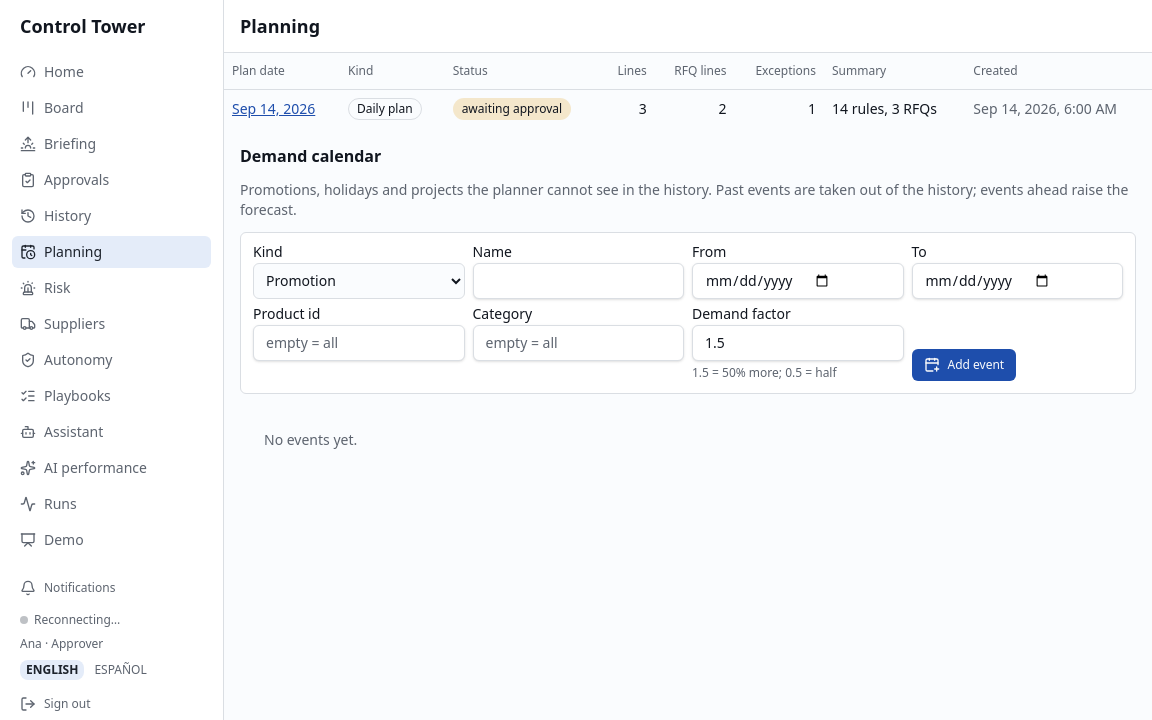
Test: planning review › keeps the demand calendar: an approver adds a promotion and removes it
Expected: the text "No events yet." is shown, [264,430,357,448]
Type "Feria" into the field labelled "Name" at (578, 280), box [472,262,684,298]
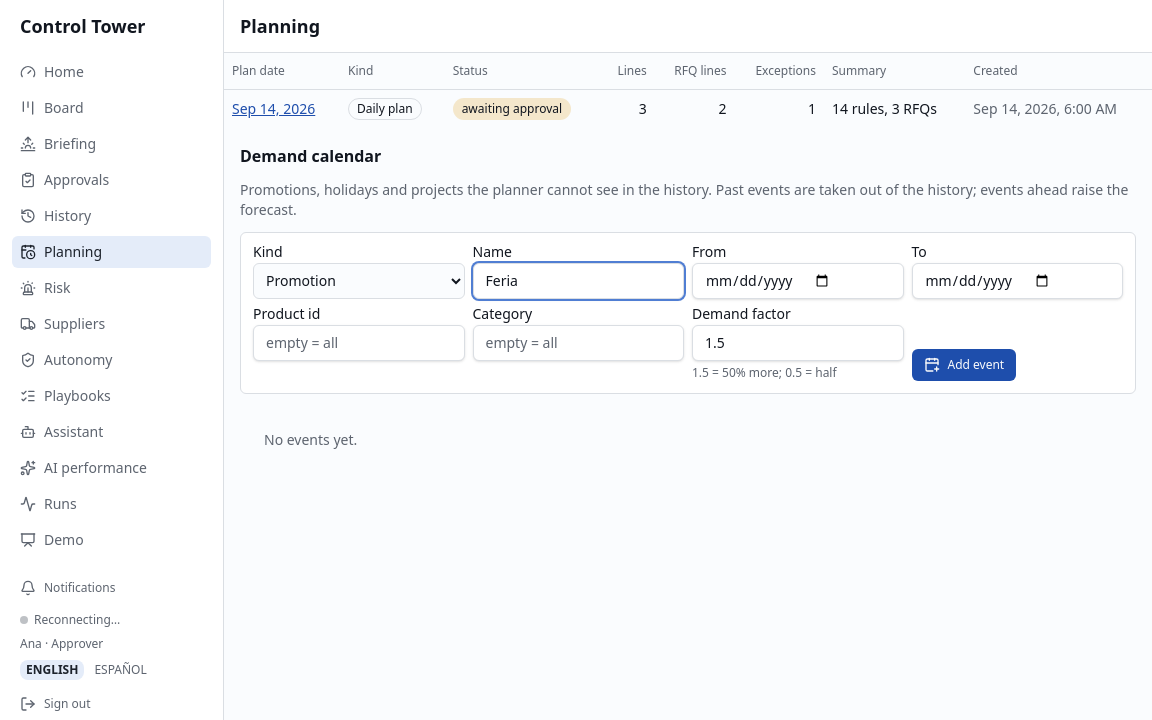
Type "2026-10-01" into the date field labelled "From" at (798, 280), box [692,262,904,298]
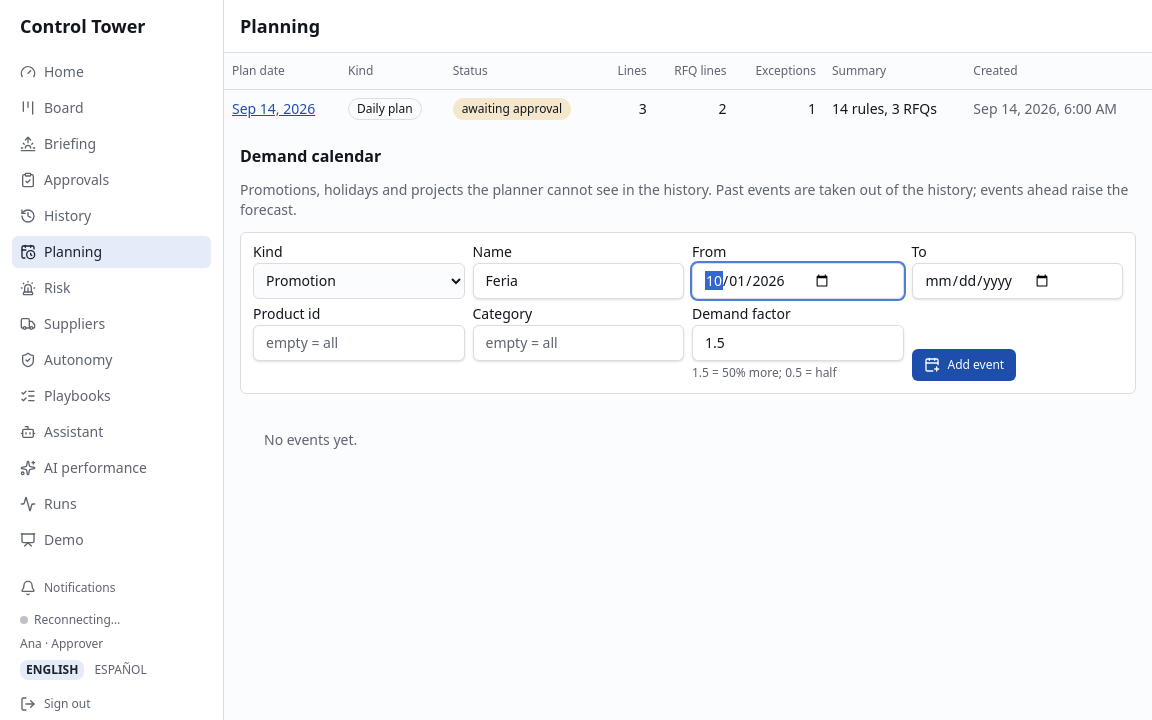
Type "2026-10-07" into the date field labelled "To" at (1017, 280), box [912,262,1123,298]
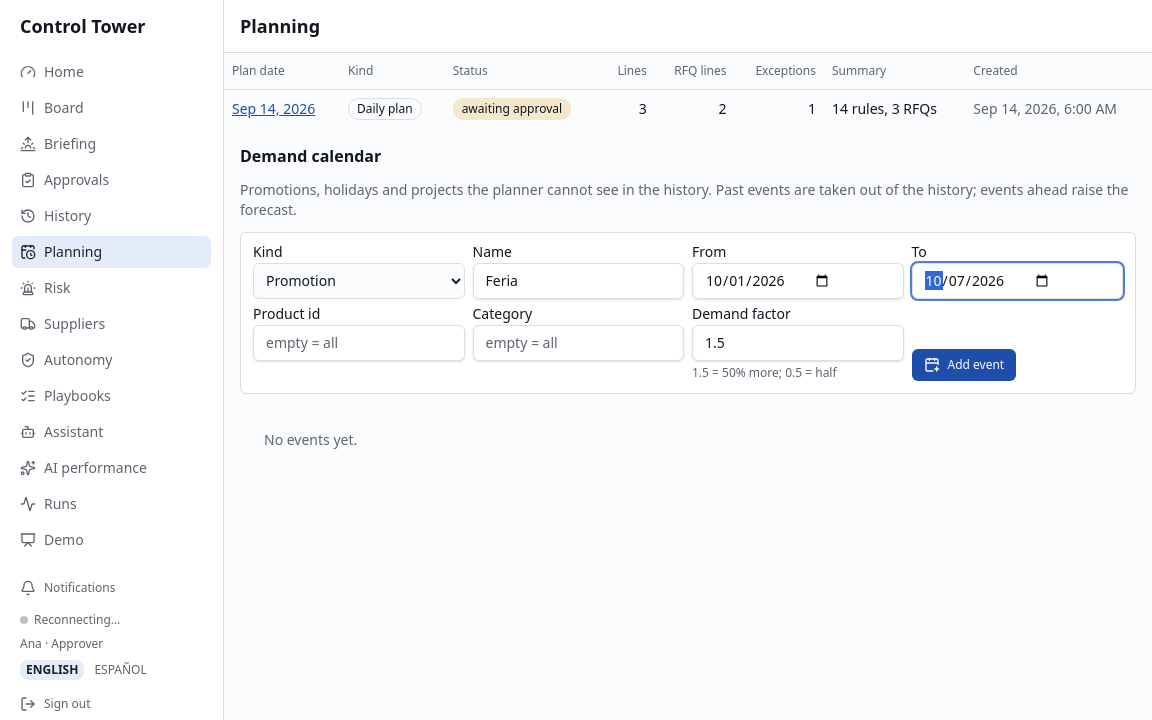
Replace the text in the number field labelled "Demand factor" with "2" at (798, 342), box [692,324,904,360]
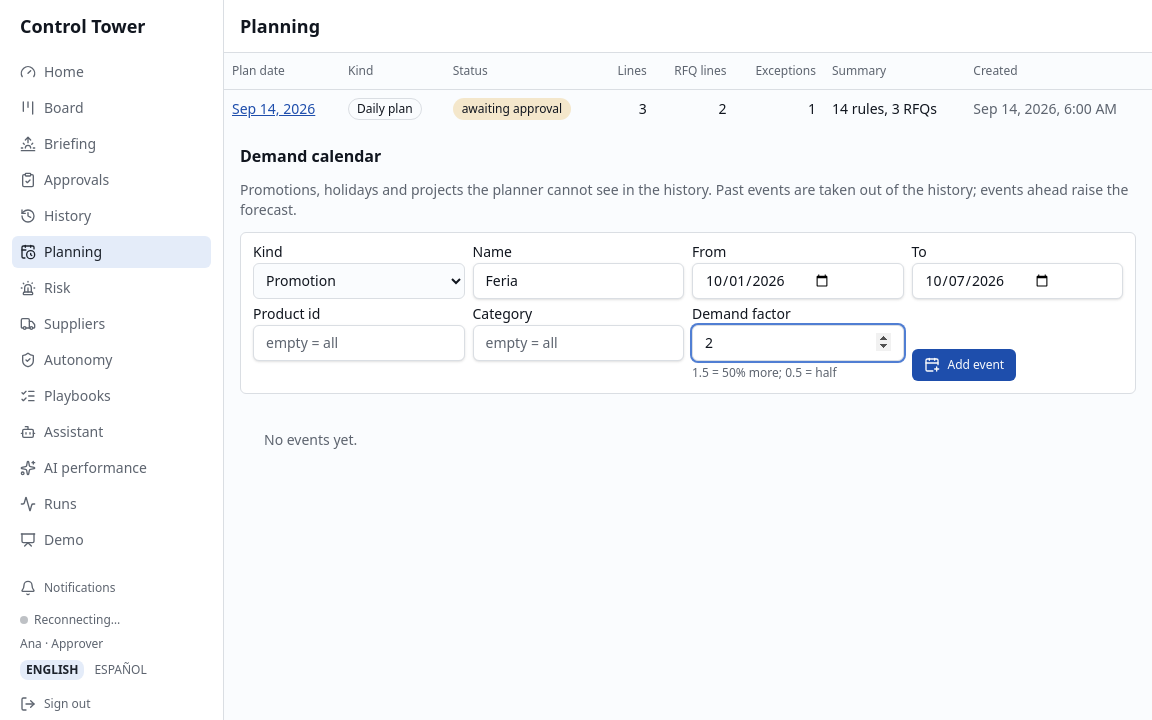
Click the button "Add event" at (964, 364), box [912,348,1016,380]
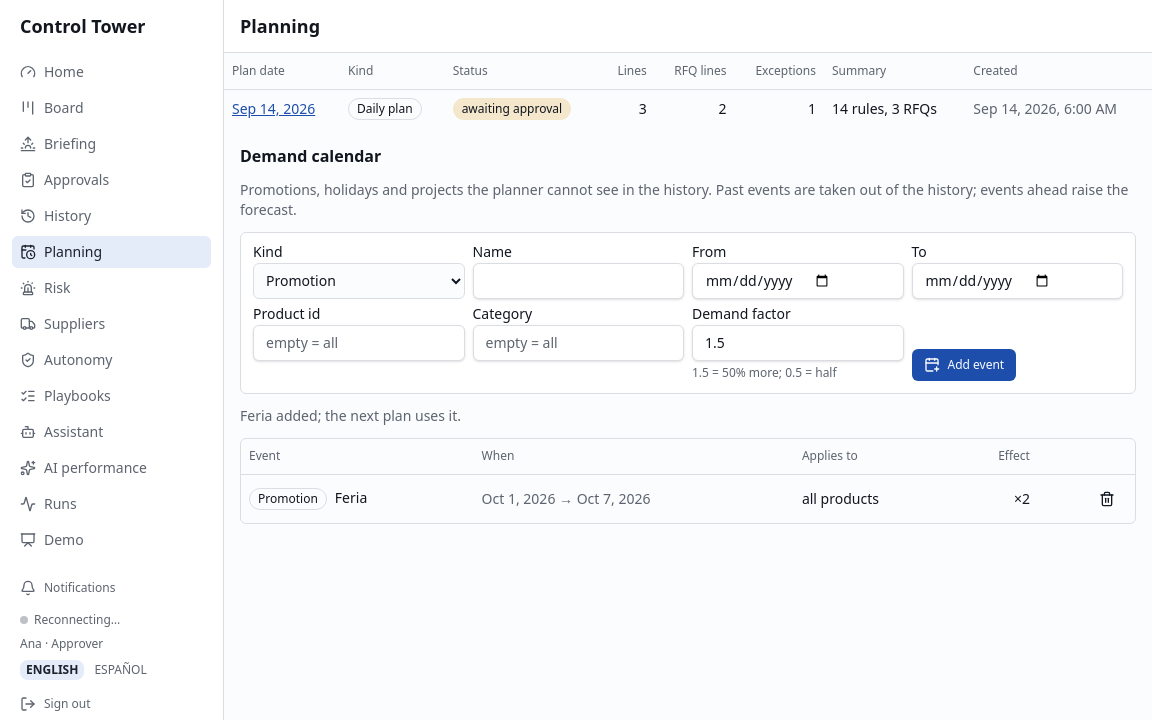
Result: the text "Feria added; the next plan uses it." is shown at [240,406,461,424]
Result: the row "Promotion Feria Oct 1, 2026 → Oct 7, 2026 all products ×2" is shown at [241,474,1135,523]
Click the button named "Remove Feria" at (1107, 499), box [1087,483,1127,515]
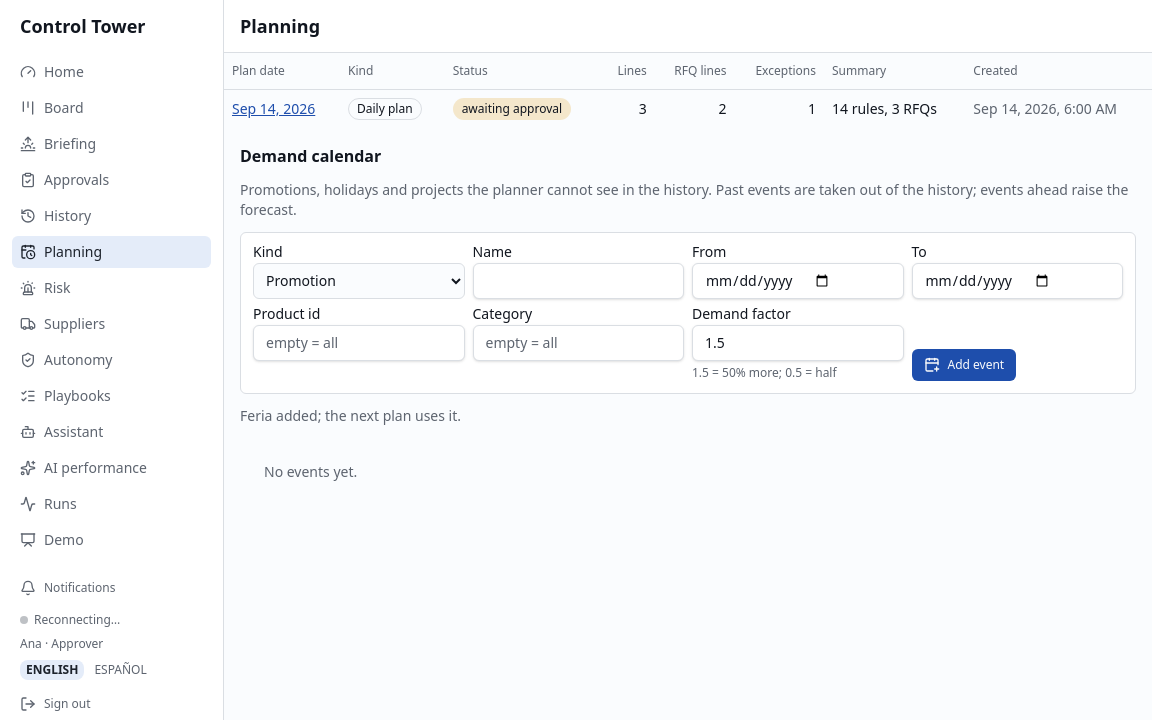
Result: the text "No events yet." is shown at [264,462,357,480]
